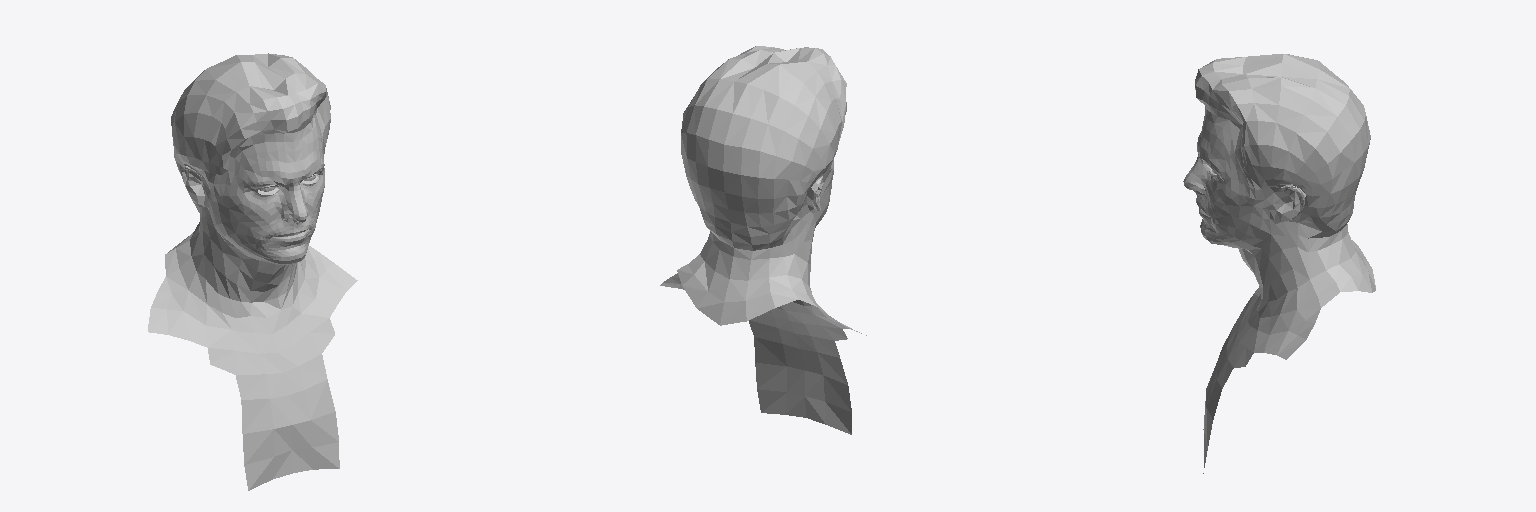
Rendered from blenderrzeczy.obj.
The picture shows the model from 3 angles: view 1: azimuth 30°, elevation 25°; view 2: azimuth 150°, elevation 25°; view 3: azimuth 270°, elevation 25°; orthographic projection.
Visible parts, largest first — view 1: theillusiveman_illHead; view 2: theillusiveman_illHead; view 3: theillusiveman_illHead.
Part boxes in pixels (bbox=[...]): theillusiveman_illHead: bbox=[148, 53, 357, 490]; theillusiveman_illHead: bbox=[660, 46, 866, 434]; theillusiveman_illHead: bbox=[1183, 54, 1375, 473].
Size of the model in its own units: 11.41 by 20.3 by 9.06.